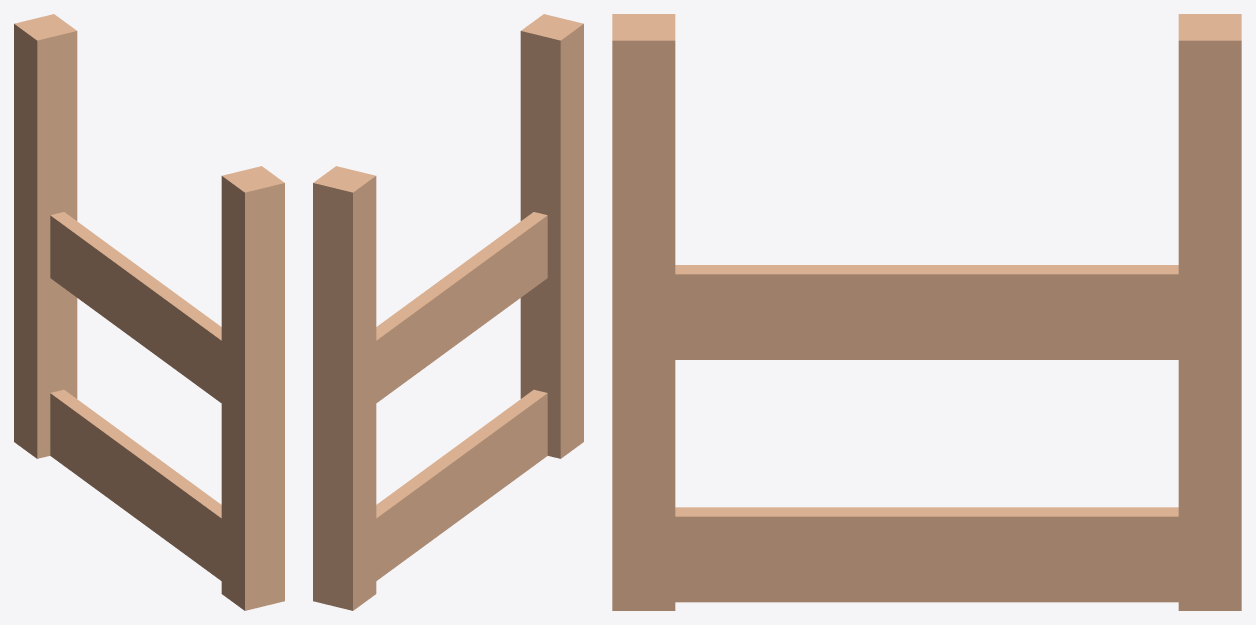
Rendered from polesHorizontal.glb.
3 views of the same model, side by side, from view 1: azimuth 30°, elevation 25°; view 2: azimuth 150°, elevation 25°; view 3: azimuth 270°, elevation 25° (orthographic). The views are drawn at different scales.
Visible parts, largest first — view 1: polesHorizontal; view 2: polesHorizontal; view 3: polesHorizontal.
Boxes of the visible parts, x1,y1,x2,y2 form: polesHorizontal: (14,14,284,610); polesHorizontal: (313,14,583,610); polesHorizontal: (612,14,1241,610).
Bounding box in the file's own units: 0.1 × 1 × 1.
